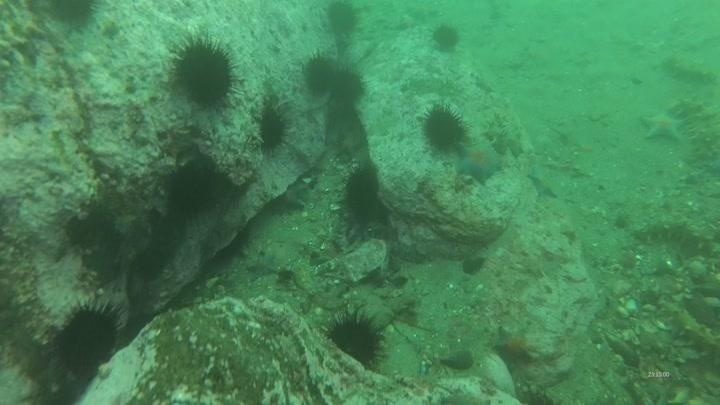echinus: (51, 299, 124, 378), (168, 35, 240, 111), (324, 309, 388, 370), (162, 160, 222, 219), (339, 164, 383, 228), (419, 104, 469, 155), (325, 65, 367, 108), (254, 103, 290, 153), (300, 52, 338, 97), (44, 1, 102, 30), (323, 1, 362, 37), (429, 22, 462, 54)
holothurian: (631, 215, 719, 256), (671, 94, 720, 163), (668, 305, 720, 358), (481, 113, 533, 158), (659, 52, 718, 86)
starfish: (454, 140, 504, 184), (490, 324, 537, 367), (639, 107, 687, 144), (526, 167, 561, 201), (244, 250, 280, 279)
